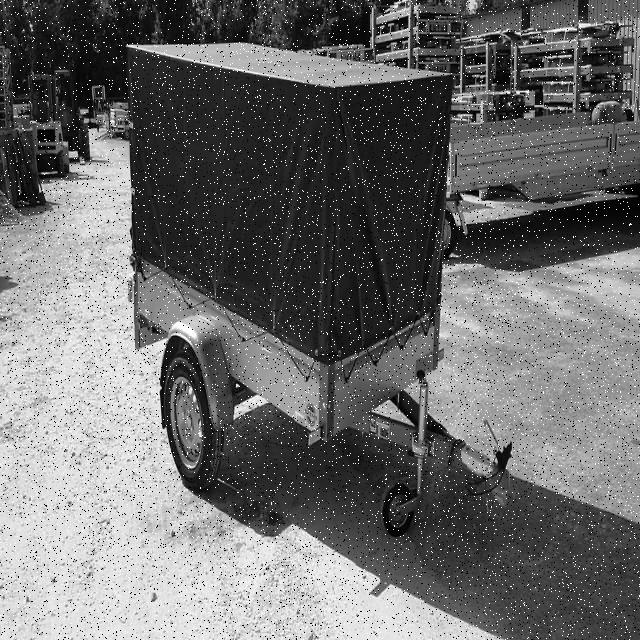Trailer: (127, 43, 516, 508)
